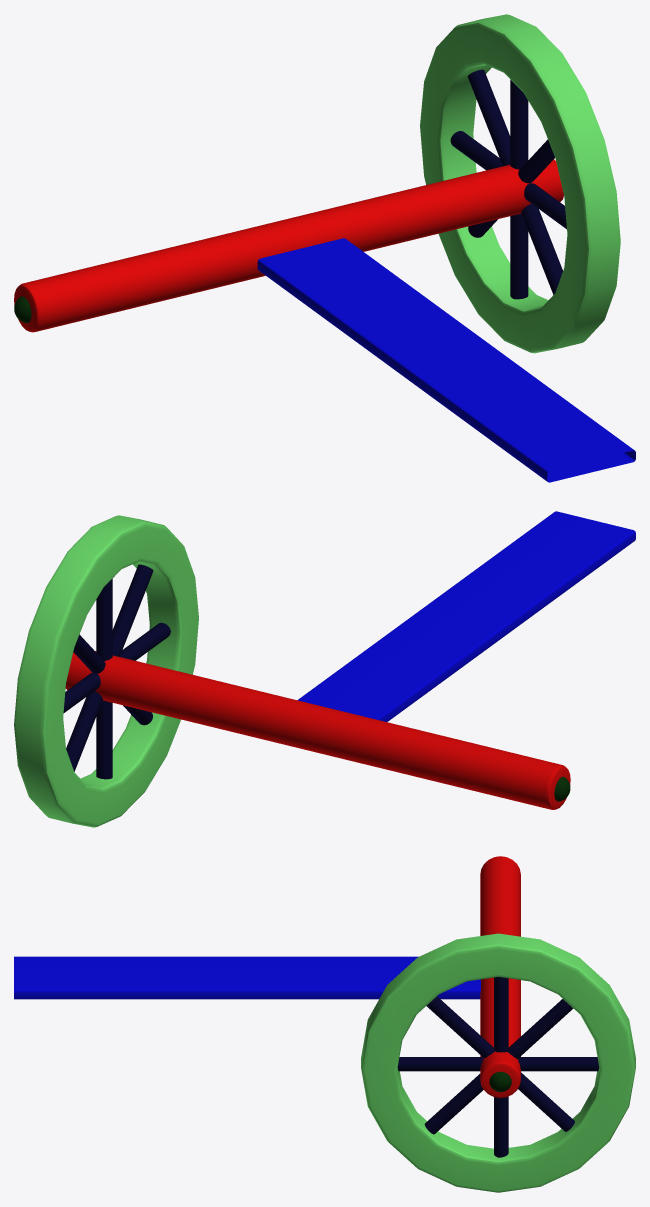
Rendered from brokenwagon2.fbx.
3 renders of one model, top to bottom at view 1: azimuth 30°, elevation 25°; view 2: azimuth 150°, elevation 25°; view 3: azimuth 270°, elevation 25°, orthographic. The views are drawn at different scales.
Visible parts, largest first — view 1: polySurface22; view 2: polySurface22; view 3: polySurface22.
Boxes of the visible parts, bbox=[...] form: polySurface22: bbox=[14, 14, 635, 482]; polySurface22: bbox=[14, 511, 635, 827]; polySurface22: bbox=[14, 856, 635, 1192].
Size of the model in its own units: 1.22 by 0.6622 by 1.5.
